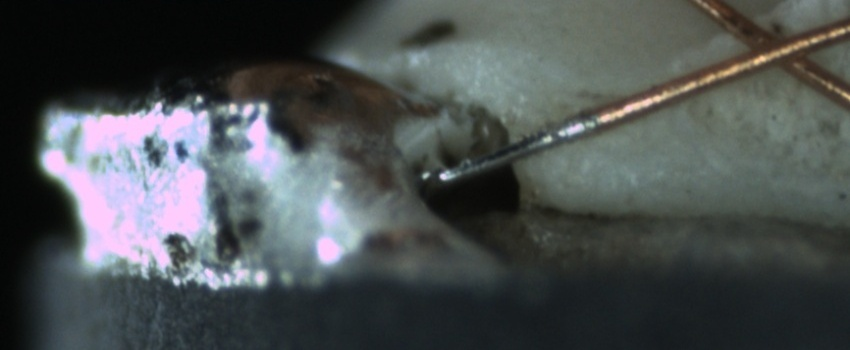CL: (709, 5, 844, 87)
TS: (430, 112, 600, 180)
